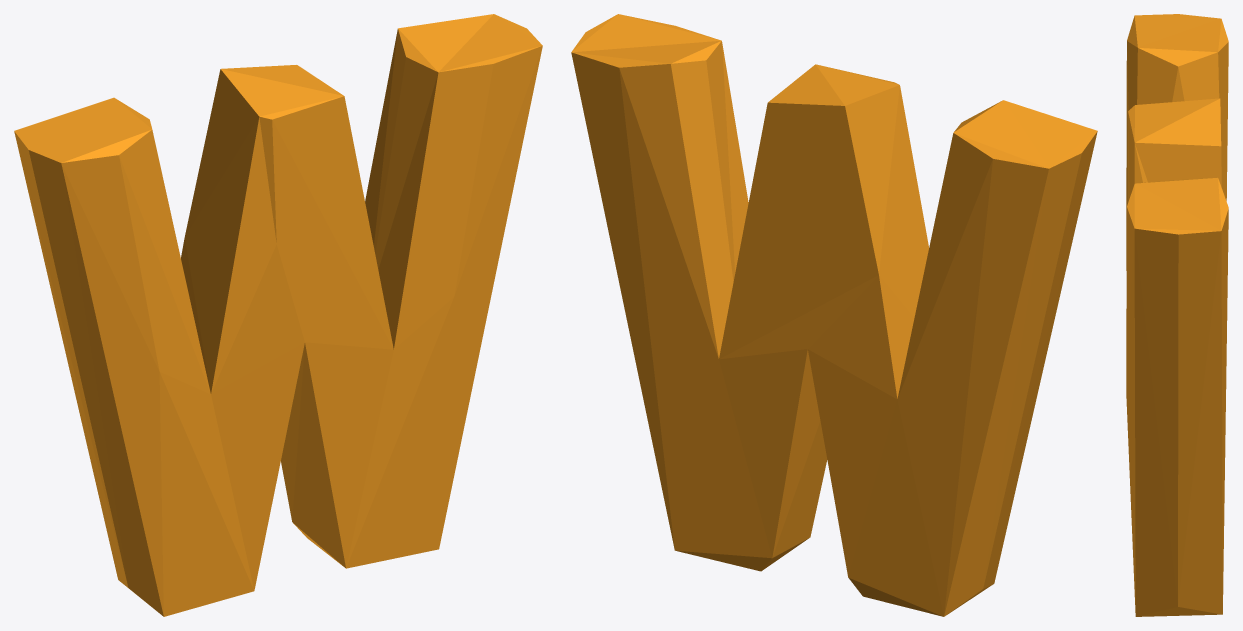
The model's file is SM_Icon_Letter_W_01.fbx.
3 views of the same model, side by side, from view 1: azimuth 30°, elevation 25°; view 2: azimuth 150°, elevation 25°; view 3: azimuth 270°, elevation 25° (orthographic). The views are drawn at different scales.
Visible parts, largest first — view 1: SM_Icon_Letter_W_01; view 2: SM_Icon_Letter_W_01; view 3: SM_Icon_Letter_W_01.
Boxes of the visible parts, box(x1,y1,x2,y2) form: SM_Icon_Letter_W_01: box(14, 14, 542, 616); SM_Icon_Letter_W_01: box(571, 14, 1097, 616); SM_Icon_Letter_W_01: box(1126, 14, 1228, 616).
Bounding box in the file's own units: 58.47 × 54.92 × 11.51.
